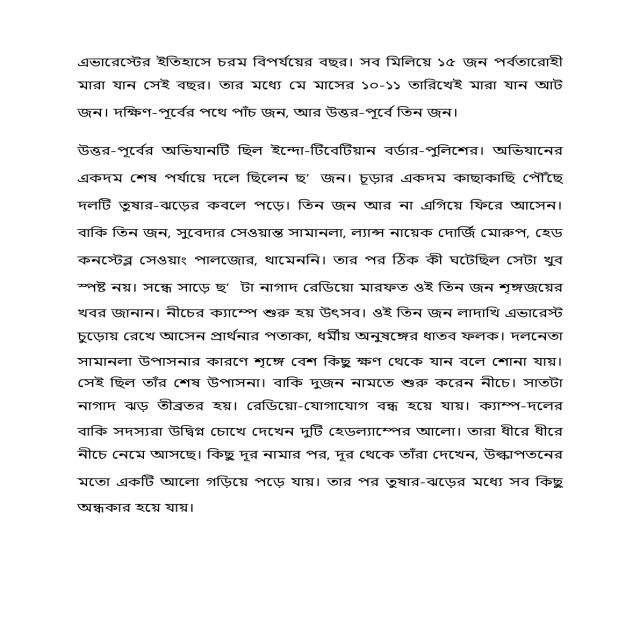paragraph: (71, 139, 573, 515), (72, 51, 570, 122)
